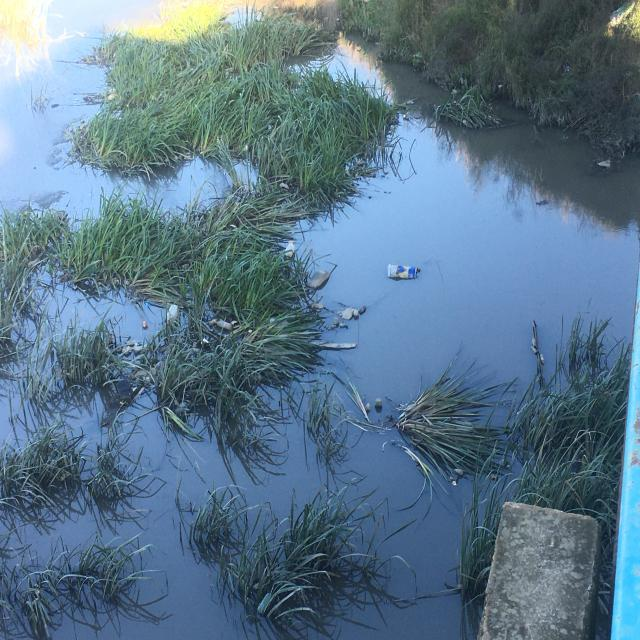Plastic bag: (165, 303, 179, 325)
Plastic bottle: (257, 591, 273, 616), (283, 240, 296, 259), (216, 320, 231, 330), (374, 396, 383, 409), (454, 468, 464, 476)
Plastic packaging: (386, 262, 418, 281)
Undefined trash: (110, 336, 152, 357), (305, 267, 331, 289), (341, 305, 355, 323)
Wood: (312, 340, 358, 351)
